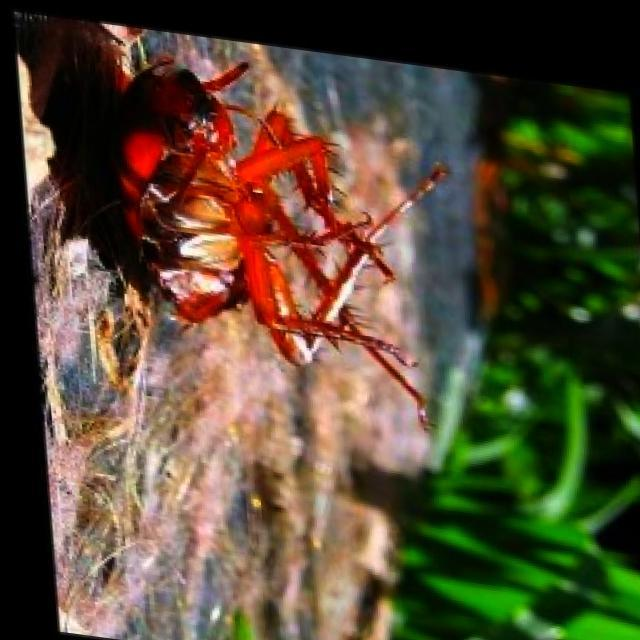cockroach: (49, 52, 440, 388)
